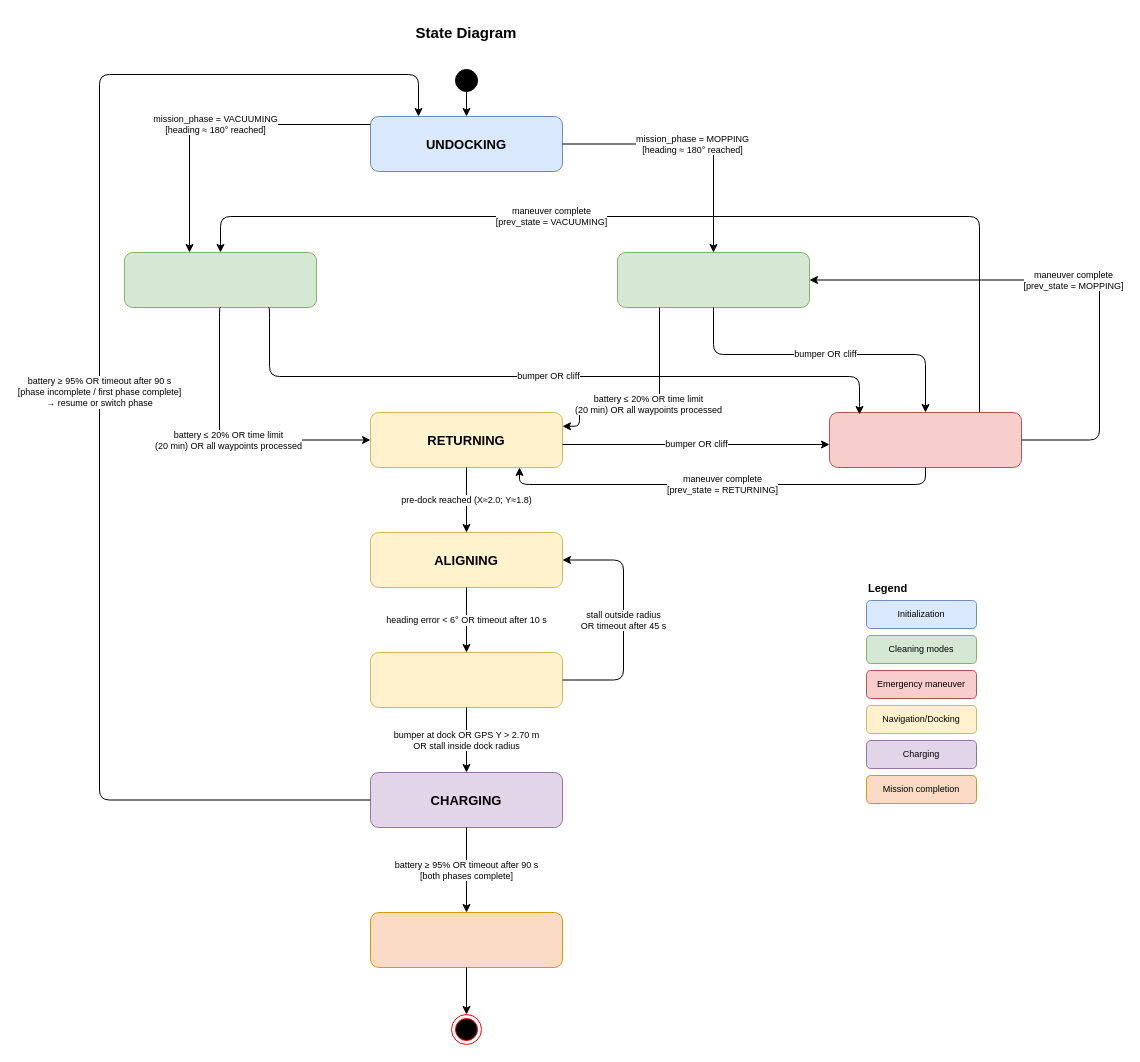
Some shapes in this 1140 by 1062 pixel diagram are drawn without their labels. Here are the shapes that lost their labels. From the top down, the centre of each, then its label:
the point at 220,280: VACUUMING
the point at 713,280: MOPPING
the point at 925,440: ESCAPE
the point at 466,680: DOCKING
the point at 466,940: FINISHED
